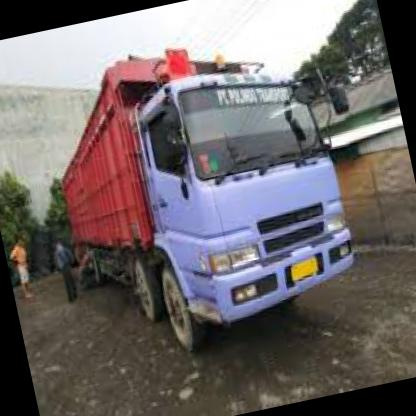truck: (125, 51, 372, 360)
